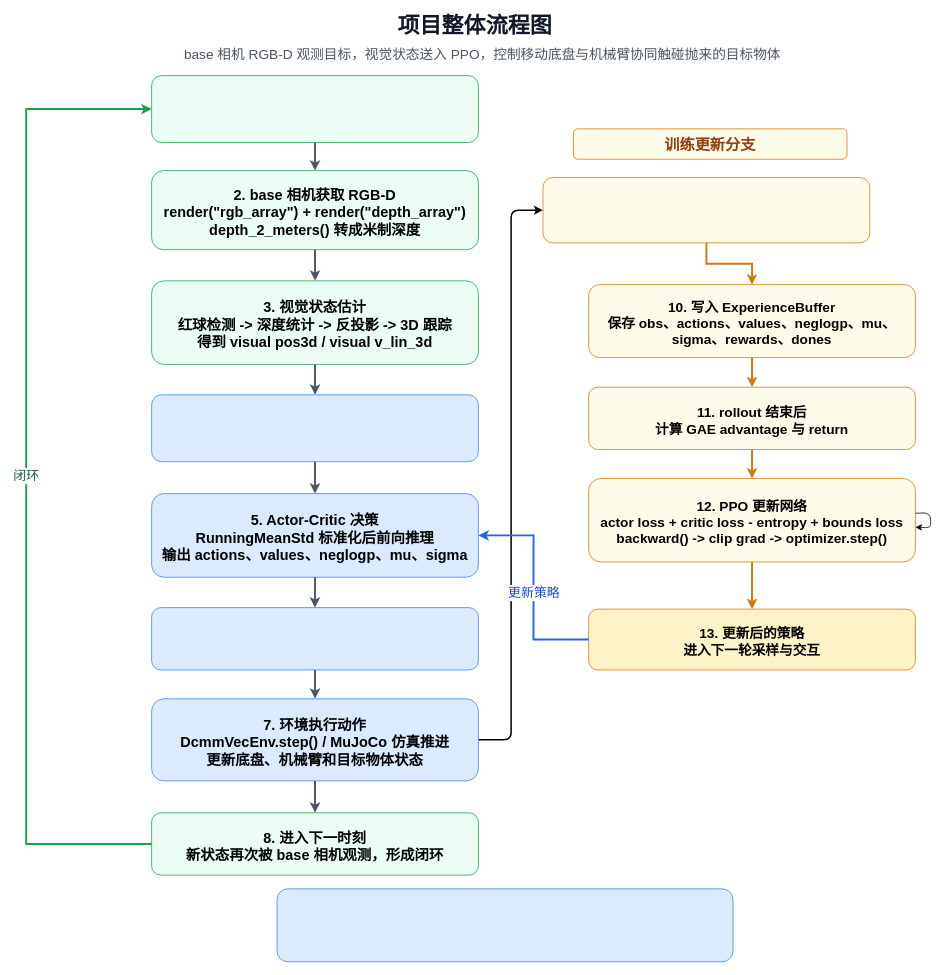
This 950x975 diagram has some shape labels left out. The centre of each missing label's shape, as x and y in pixels:
"1. MuJoCo / DcmmVecEnv 环境 包含 tidybot、目标物体、动力学、碰撞、抛球与回合管理" belongs at point 314,108.
"4. 构造 PPO 观测 obs 视觉物体状态 + 末端状态 + 底盘状态 + 机械臂状态" belongs at point 314,428.
"6. 输出 9 维动作 底盘控制 + 7 关节机械臂 + 夹爪" belongs at point 314,638.
"9. 计算 reward / done 基于 ee_distance、base_distance、接触关系、成功阈值等" belongs at point 706,210.
"最终目标 让移动底盘与机械臂协同运动，控制夹爪末端触碰抛来的动态目标物体。" belongs at point 504,925.
